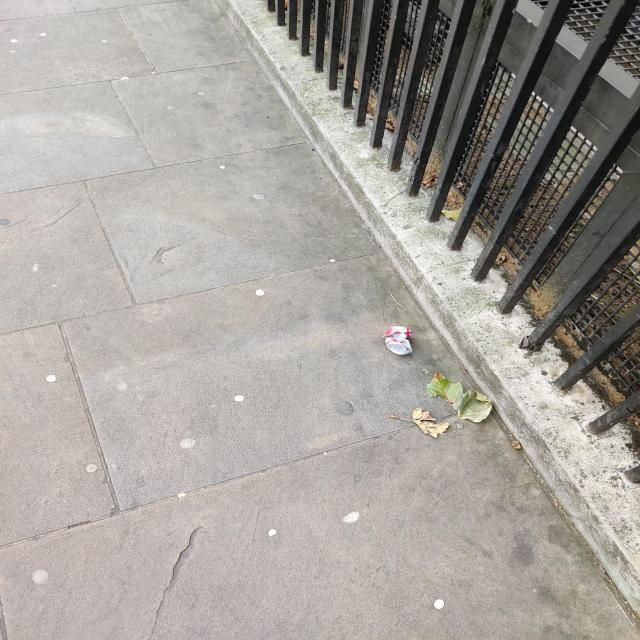litter: (381, 327, 410, 359)
